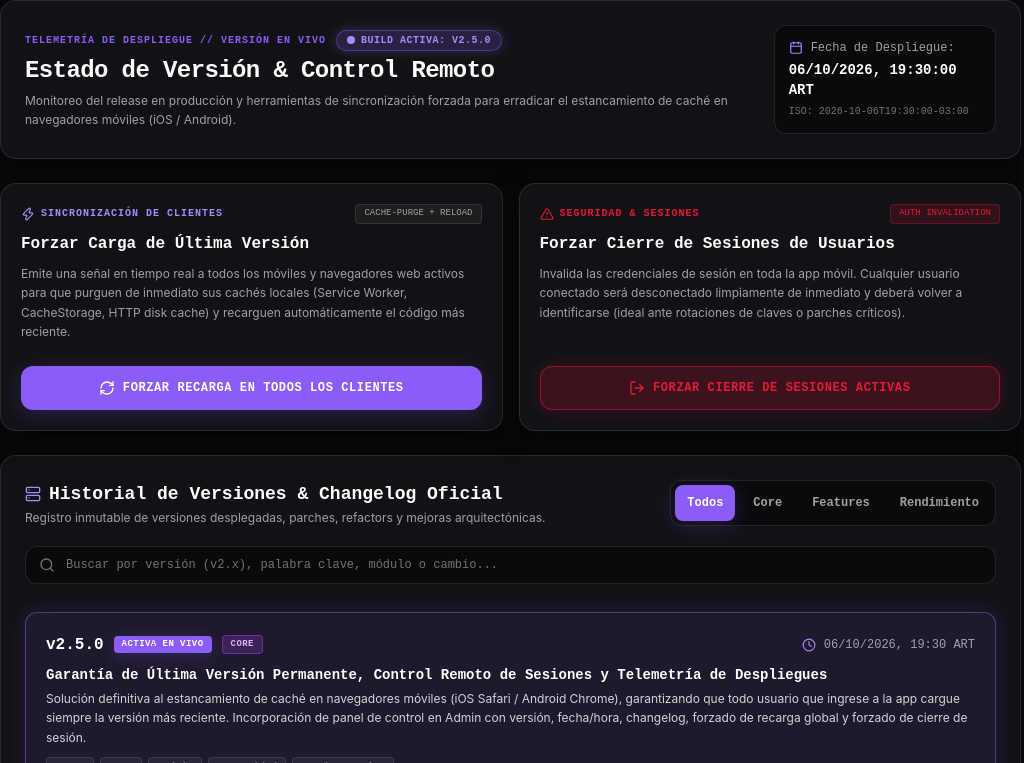
Scenario: VESSEL // UI SystemVersionTab › debe abrir modal de confirmación al presionar Forzar Cierre de Sesiones
Click the button "Forzar Cierre de Sesiones Activas": (770, 388) 540,366 -> 1000,410
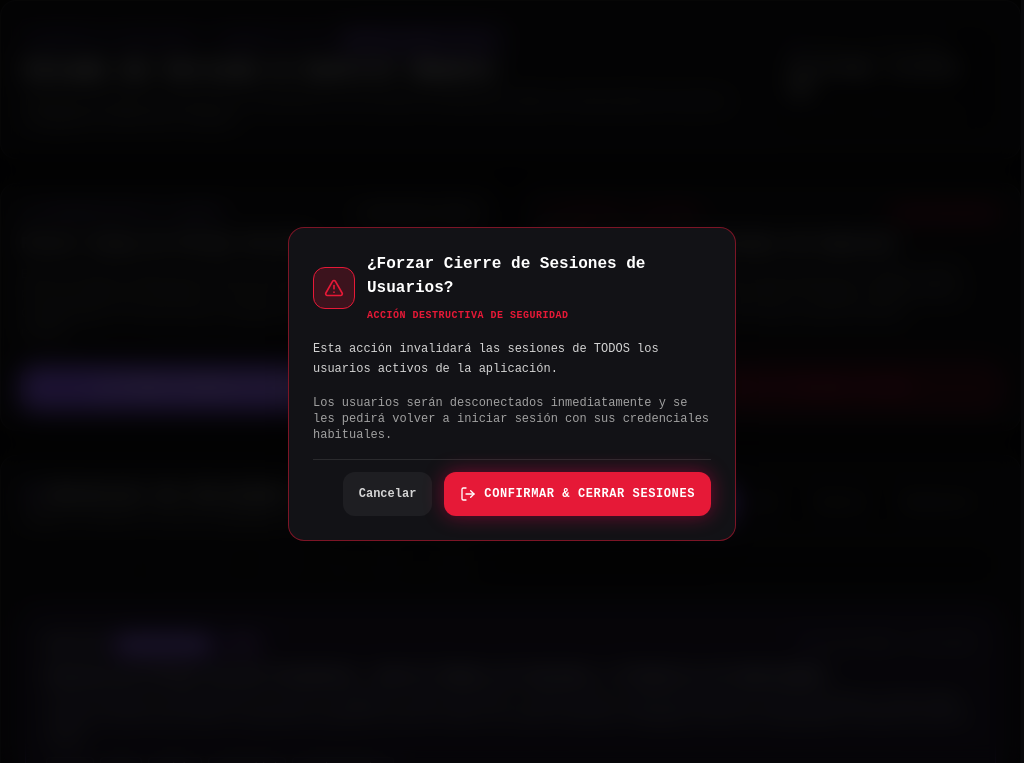
Result: the heading "¿Forzar Cierre de Sesiones de Usuarios?" is shown at 367,255 -> 646,297
Result: the button "Confirmar & Cerrar Sesiones" is shown at 444,472 -> 711,516
